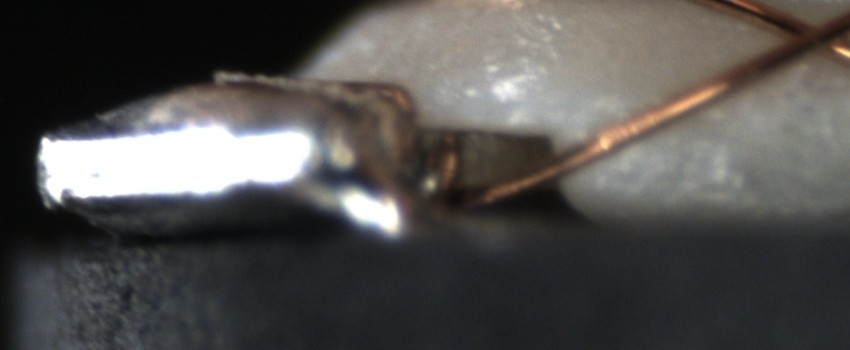CL: (771, 4, 850, 64)
TE: (371, 74, 466, 208)
